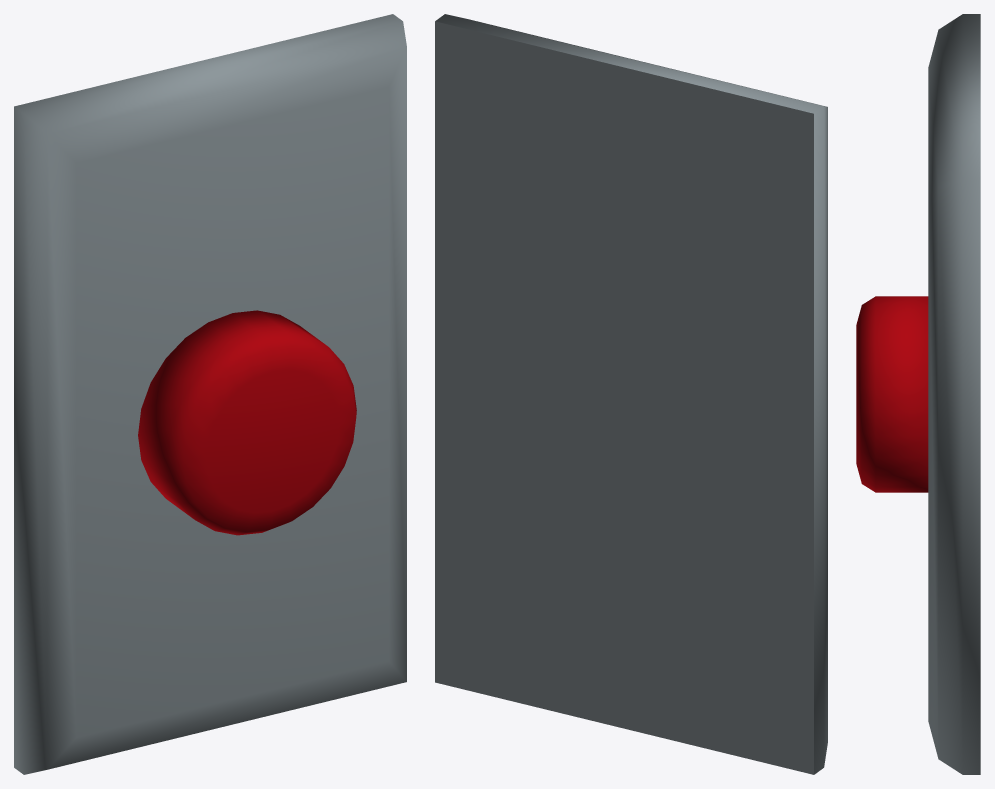
Rendered from Elevator Button.fbx.
3 views of the same model, side by side, from view 1: azimuth 30°, elevation 25°; view 2: azimuth 150°, elevation 25°; view 3: azimuth 270°, elevation 25° (orthographic). The views are drawn at different scales.
Parts seen in each view (by area): view 1: Base, Button; view 2: Base; view 3: Base, Button.
Boxes of the visible parts, x1,y1,x2,y2 form: Base: (14, 14, 406, 774); Button: (138, 310, 356, 535); Base: (435, 14, 827, 774); Base: (928, 14, 980, 774); Button: (856, 296, 928, 492).
Size of the model in its own units: 15 by 25 by 4.75.
